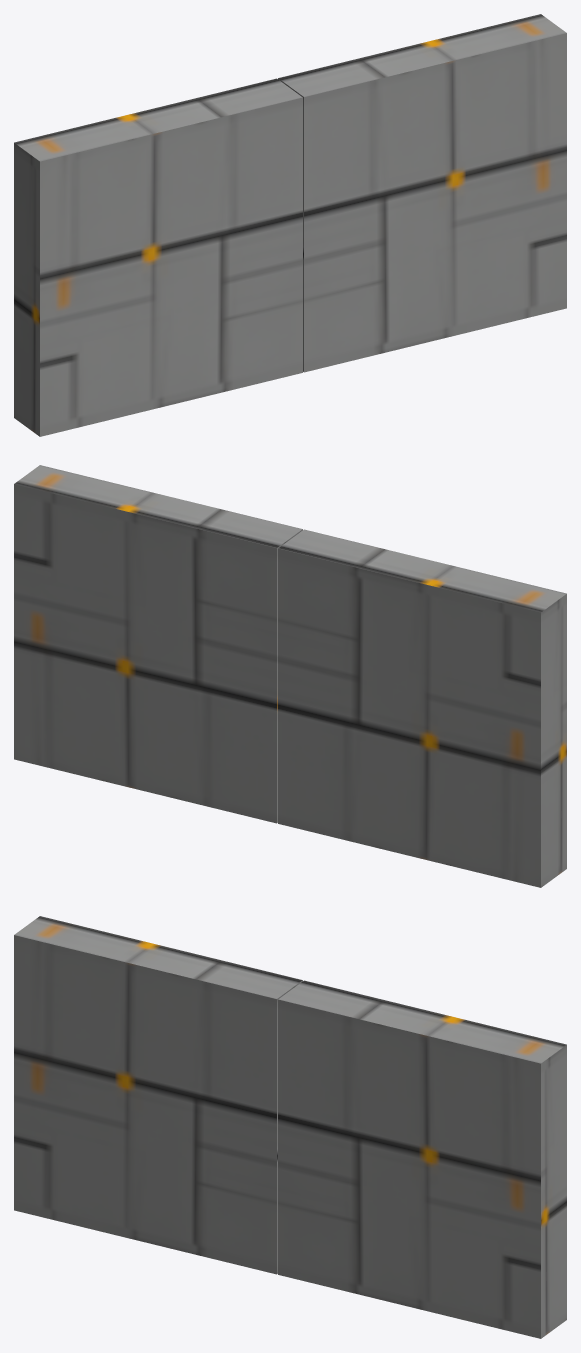
File: prop_door.glb
3 views of the same model, one above another, from view 1: azimuth 30°, elevation 25°; view 2: azimuth 150°, elevation 25°; view 3: azimuth 330°, elevation 25° (orthographic).
Parts seen in each view (by area): view 1: polymsh2.002; view 2: polymsh2.002; view 3: polymsh2.002.
Part boxes in pixels (x1,y1,x2,y2): polymsh2.002: (14, 14, 566, 436); polymsh2.002: (14, 465, 566, 887); polymsh2.002: (14, 916, 566, 1338).
Bounding box in the file's own units: 0.5298 × 0.2645 × 0.0453.
Materials: 1 (1 with a texture image).
